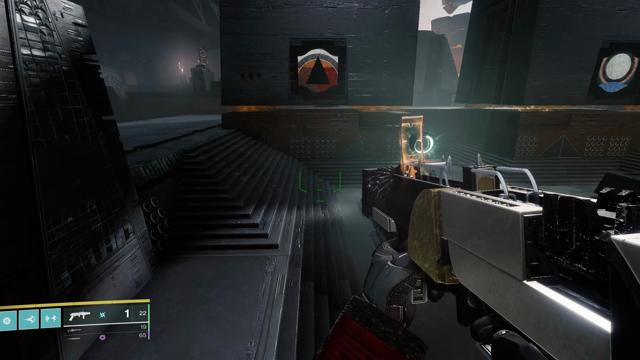pyramid: (297, 48, 338, 93)
traveler: (595, 50, 640, 94)
